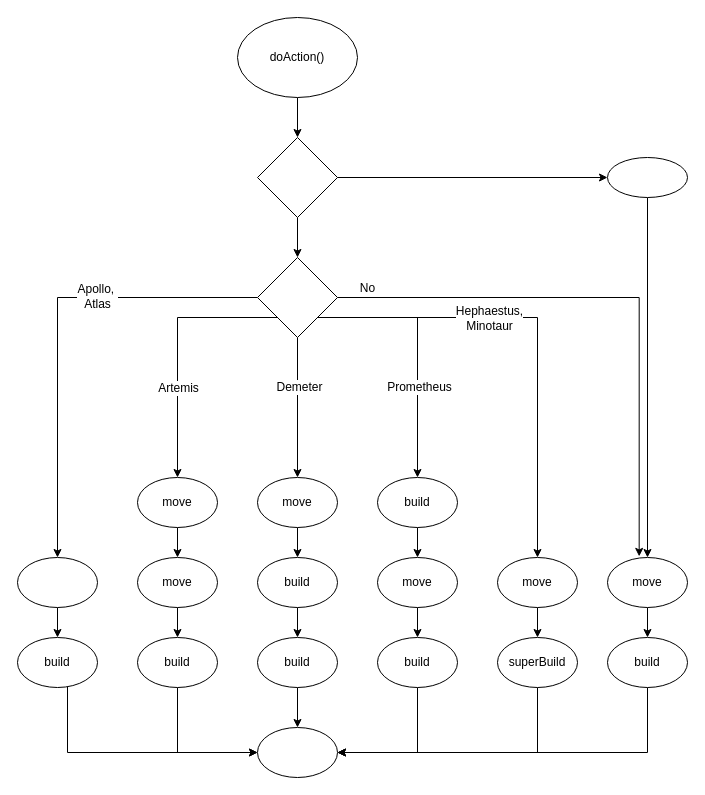
Image size: 705x795. Some labels were removed from this diagram. Here are the shapes that lost their labels. From the top down, the centre of each, then its label:
the point at 297,177: pan athena
the point at 647,177: setFlag
the point at 297,297: godPower?
the point at 57,582: superMove
the point at 297,752: endTurn
